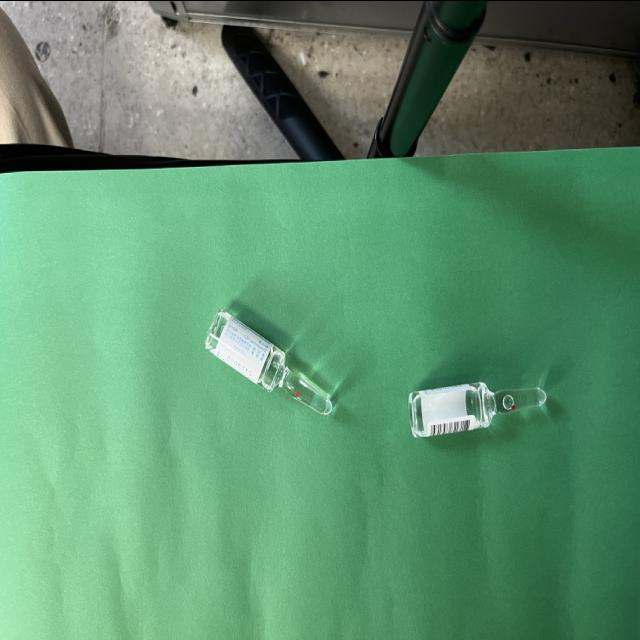Ampoules: (206, 309, 333, 413), (408, 381, 546, 436)
